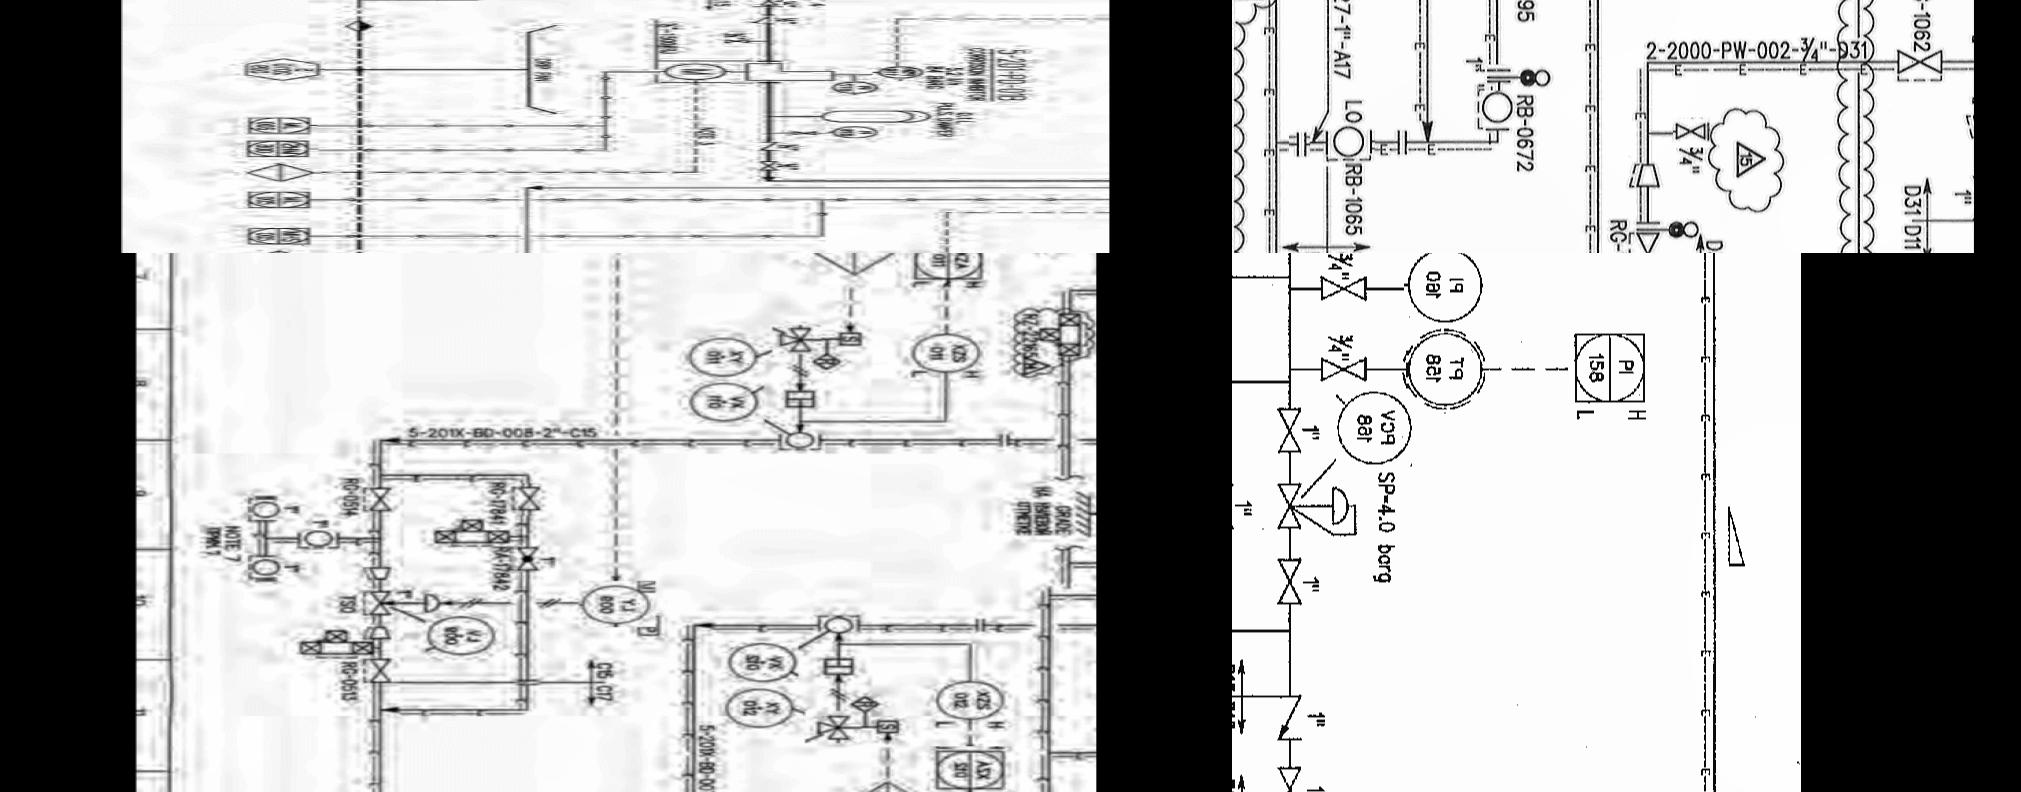2 WAY VALVE: (419, 262, 518, 294), (293, 375, 388, 409)
3 WAY GENERAL VALVE: (804, 458, 861, 491)
CONCENTRIC REDUCER: (1628, 161, 1664, 191), (361, 312, 398, 330), (366, 369, 397, 388)
DCS ACCESSIBLE: (1569, 330, 1647, 409), (928, 493, 1010, 539), (236, 139, 318, 160), (235, 116, 316, 137), (240, 188, 316, 210), (242, 226, 320, 246)
DRUM AND PRESSURE VESSEL: (813, 110, 933, 124)
END FLANGED: (1389, 123, 1415, 164), (416, 339, 454, 361), (1289, 125, 1310, 163), (968, 362, 996, 383)
FIELD INSTRUMENT: (1406, 325, 1484, 413), (1401, 253, 1484, 328), (1334, 390, 1410, 467), (928, 424, 1010, 468), (579, 328, 655, 374), (724, 435, 803, 479), (425, 360, 498, 406), (720, 390, 797, 431), (1329, 124, 1374, 164), (661, 62, 731, 84), (1476, 90, 1516, 124), (242, 304, 286, 330), (811, 361, 862, 383), (294, 276, 343, 295), (826, 81, 884, 95), (870, 66, 923, 81), (238, 253, 284, 271), (829, 125, 884, 139)
GATE VALVE: (1271, 401, 1308, 458), (1271, 549, 1306, 610), (1895, 46, 1945, 79), (1315, 353, 1371, 382), (1319, 275, 1374, 302), (354, 404, 396, 435), (363, 333, 396, 368), (1673, 116, 1709, 147), (1275, 758, 1304, 792), (1628, 230, 1659, 253), (507, 253, 550, 263), (751, 159, 784, 172), (718, 37, 758, 46), (360, 253, 394, 263), (782, 129, 821, 135), (753, 0, 782, 8)
GLOBE VALVE: (509, 289, 541, 326)
HARDWIRED INTERLOCK FIELD: (849, 436, 880, 471)
HARDWIRED INTERLOCK PRIMARY.: (231, 163, 320, 181), (846, 525, 932, 539)
IP CONVERTER: (621, 356, 672, 388)
NO ACCESS INDICATOR: (236, 57, 325, 81)
REVISION TRIANGLE: (1732, 139, 1771, 179)
SELF ACTING VALVE: (1272, 473, 1361, 543)
SPECTACLE BLIND CLOSED: (1477, 64, 1556, 92), (1636, 212, 1707, 240)
SPEED FLOW METER: (862, 466, 910, 482)
